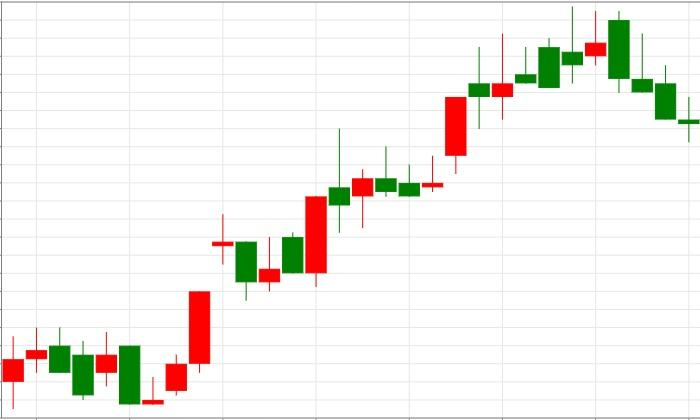bearish_engulfing_fall: (445, 6, 629, 174)
